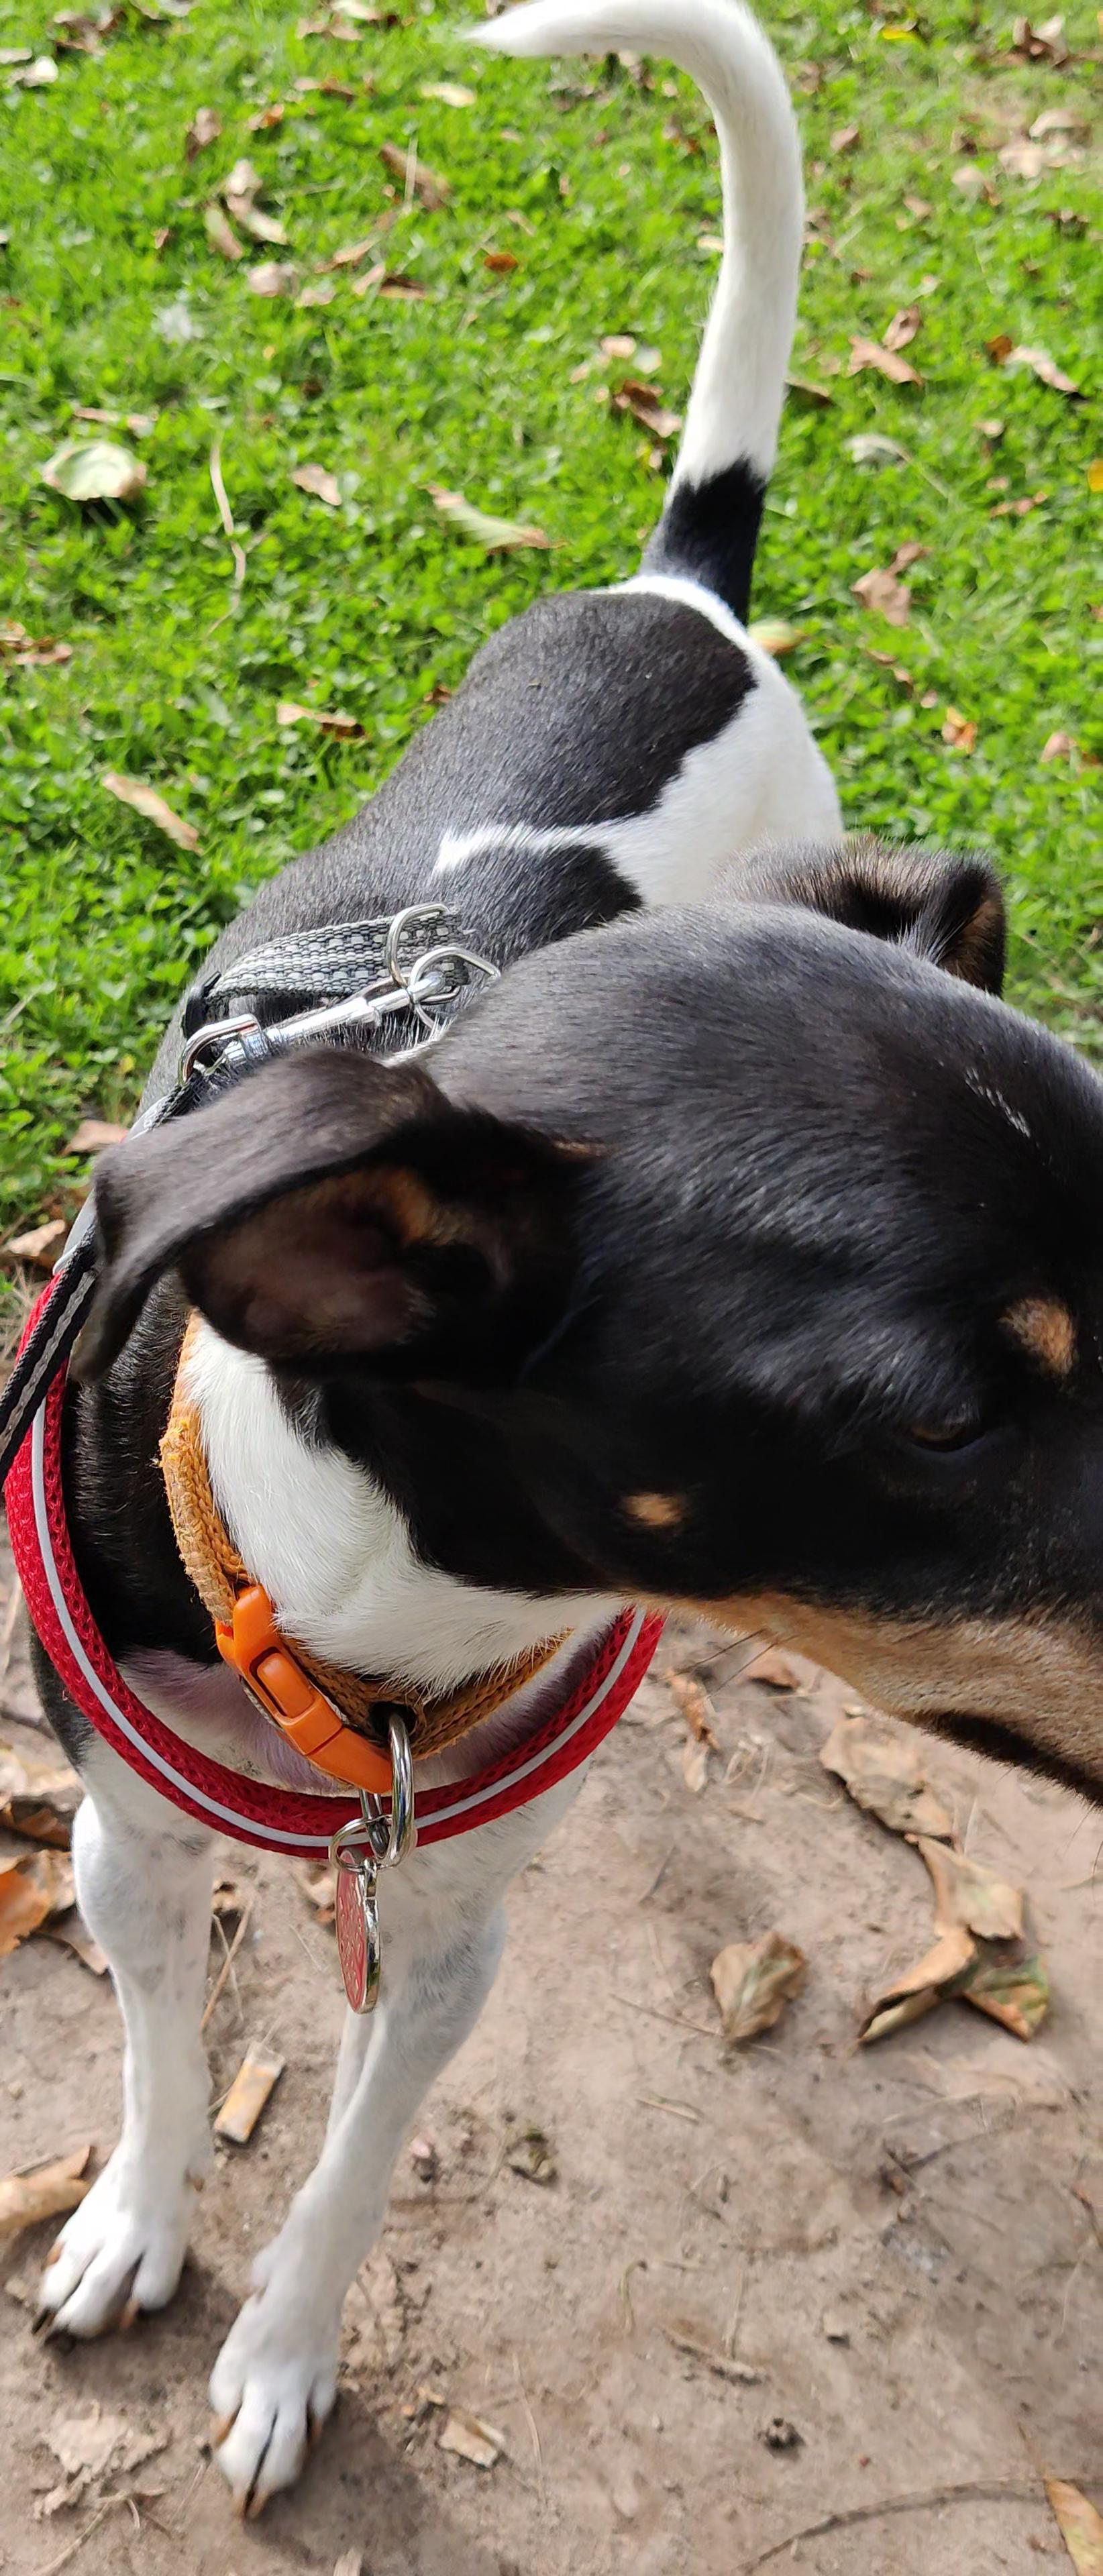Dog: (0, 0, 1103, 2522)
